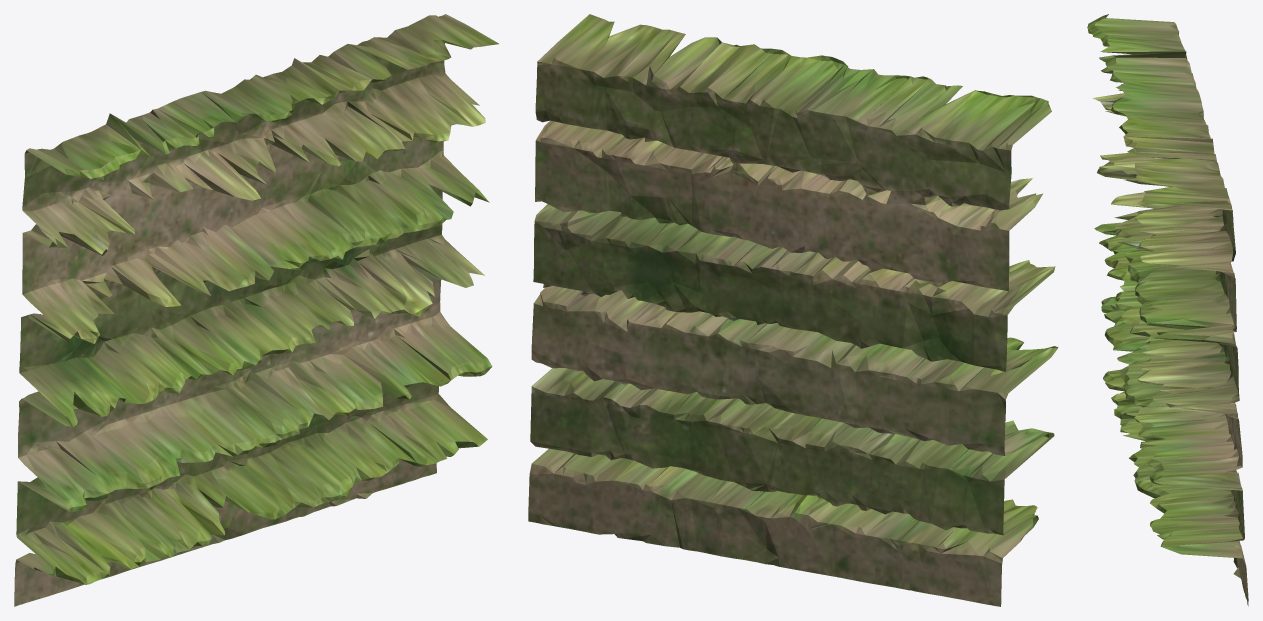
The model's file is map_80_50.obj.
The picture shows the model from 3 angles, left to right: view 1: azimuth 30°, elevation 25°; view 2: azimuth 150°, elevation 25°; view 3: azimuth 270°, elevation 25°; orthographic projection. The views are drawn at different scales.
Parts seen in each view (by area): view 1: grp1; view 2: grp1; view 3: grp1.
Part boxes in pixels (box(x1,y1,x2,y2)): grp1: box(14, 14, 498, 606); grp1: box(528, 14, 1058, 606); grp1: box(1087, 14, 1248, 606).
Size of the model in its own units: 10 by 10 by 3.61.
1 material, 1 textured.
